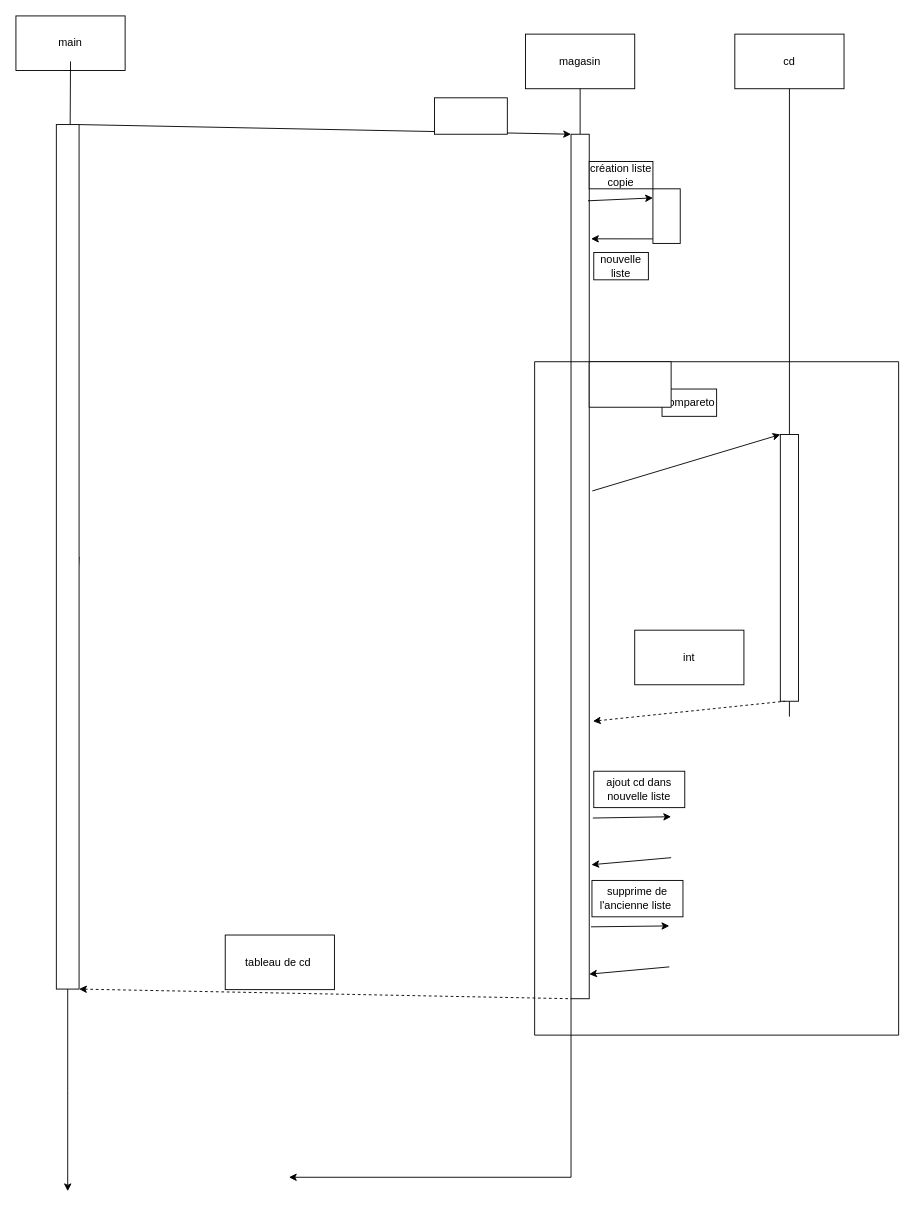
The diagram is 915 pixels wide and 1215 high, and some of its shapes have lost their labels. The shapes that lost their labels are listed below. From the top down, each one's centre as x and y in pixels, then its label:
At (470,115): "trier()".
At (629,384): "while liste base is not empty".
